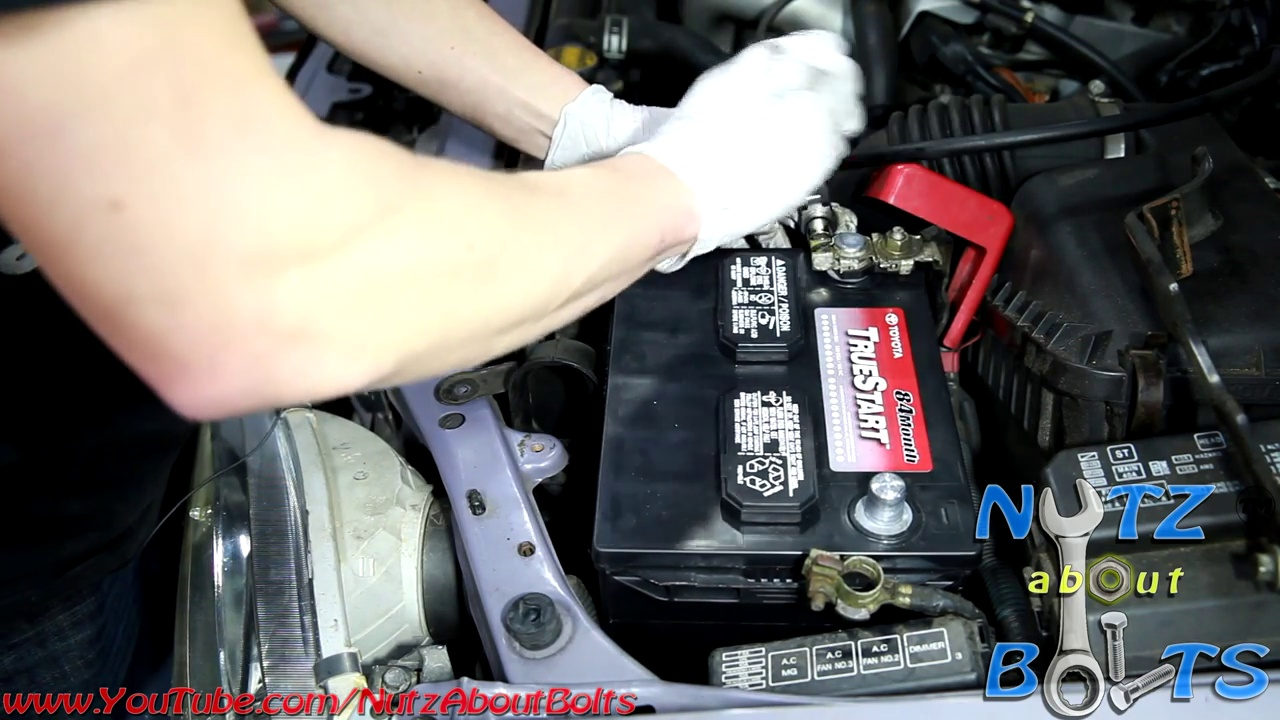battery: (602, 184, 1003, 623)
neg_disconnected: (791, 463, 941, 621)
pos_connected: (778, 188, 989, 312)
pos_touched: (727, 90, 1004, 299)
